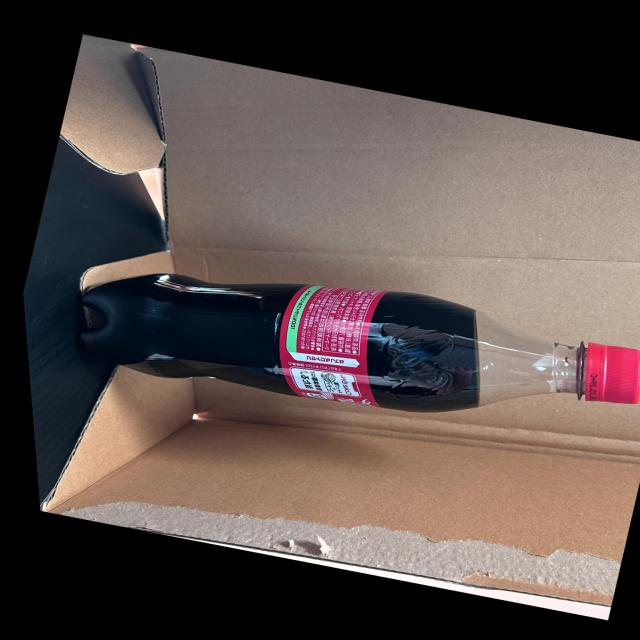high: (82, 274, 640, 413)
